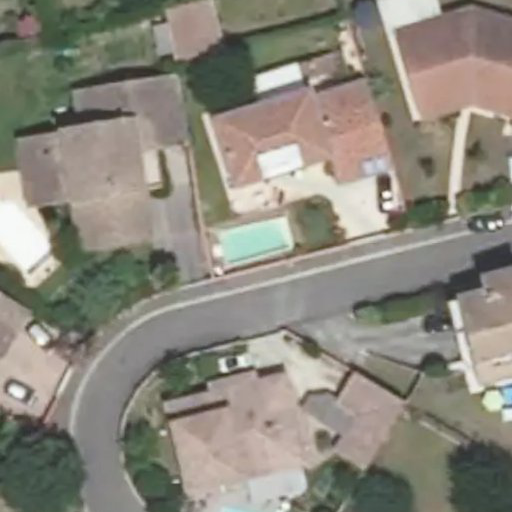pool: (220, 234, 292, 249)
